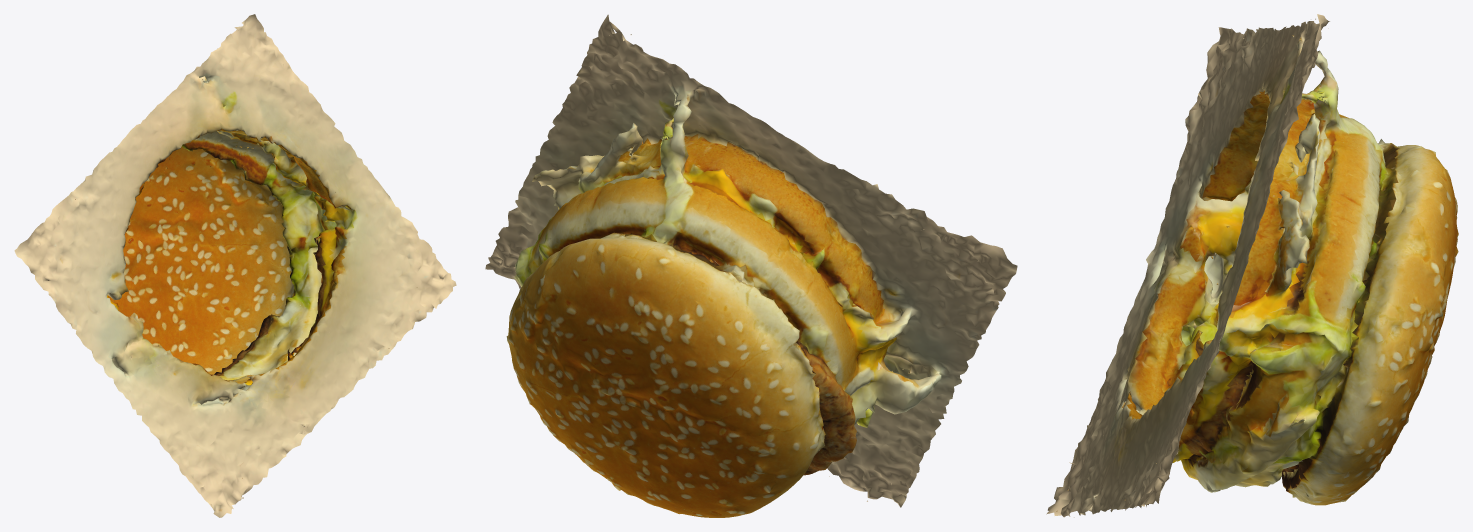
The model's file is hamburger_low.fbx.
3 views of the same model, side by side, from view 1: azimuth 30°, elevation 25°; view 2: azimuth 150°, elevation 25°; view 3: azimuth 270°, elevation 25° (orthographic). The views are drawn at different scales.
Parts seen in each view (by area): view 1: Model; view 2: Model; view 3: Model.
Part boxes in pixels (box(x1,y1,x2,y2)): Model: box(14, 14, 456, 517); Model: box(485, 14, 1017, 517); Model: box(1046, 14, 1458, 517).
Bounding box in the file's own units: 7.27 × 6.7 × 4.27.
